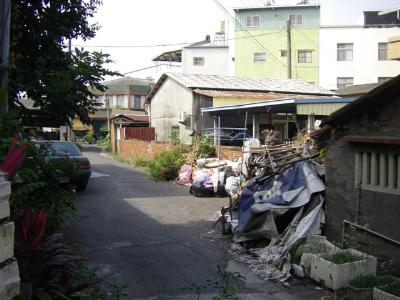plastic_bag: (235, 159, 329, 238)
